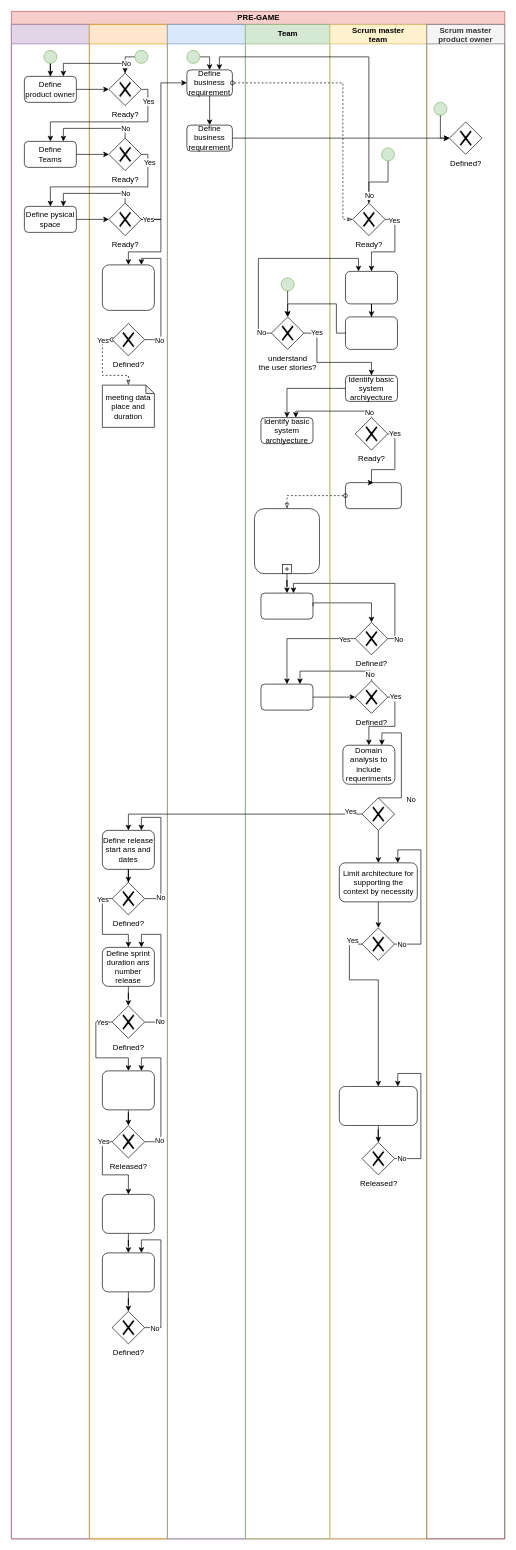
The diagram is 516 pixels wide and 1550 high, and some of its shapes have lost their labels. Each missing label, with the box of its shape:
Analyze and learn tools, technologies and practices: (254, 508, 319, 574)
Construct spike prototype: (345, 271, 397, 304)
Create project roadmap: (102, 1194, 154, 1233)
Define chronogram: (102, 1252, 154, 1292)
Define Meeting data, places and duration: (102, 264, 154, 310)
Define software for use: (260, 683, 313, 710)
Define technology to use: (345, 482, 401, 509)
Define tools for use: (260, 592, 313, 619)
Done?: (361, 797, 395, 830)
Everyone: (11, 24, 89, 1539)
Limited?: (361, 927, 395, 960)
Product owner: (167, 24, 245, 1539)
Release cost and effort estimation: (339, 1086, 417, 1125)
Release risk evaluation and control: (102, 1070, 154, 1110)
Scrum master: (89, 24, 167, 1539)
Test spike prototype: (345, 316, 397, 349)
